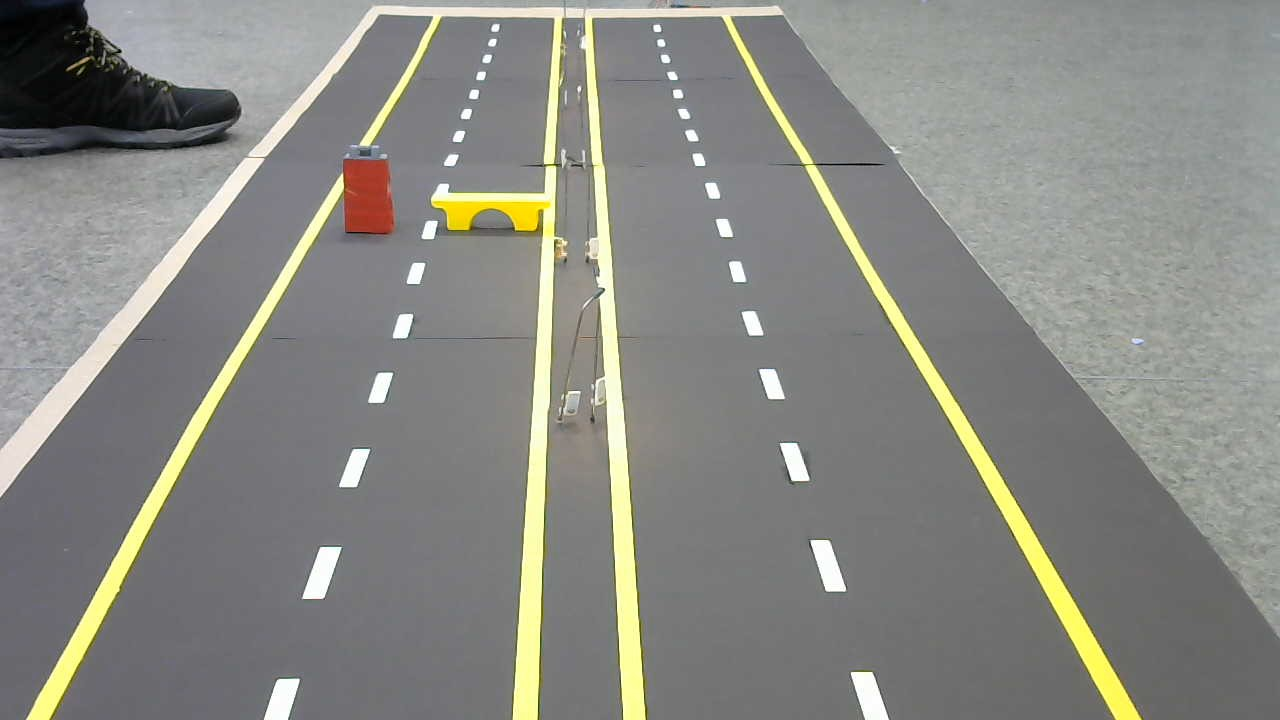accident: (339, 145, 398, 236)
emergency_situation: (430, 190, 550, 236)
